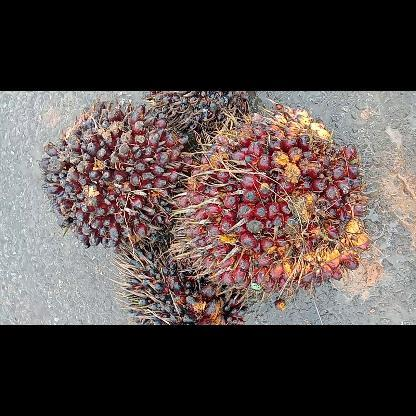Kurang masak: (40, 101, 190, 247)
TBS abnormal: (124, 246, 244, 324), (144, 91, 250, 135)
TBS masak: (174, 105, 366, 296)
